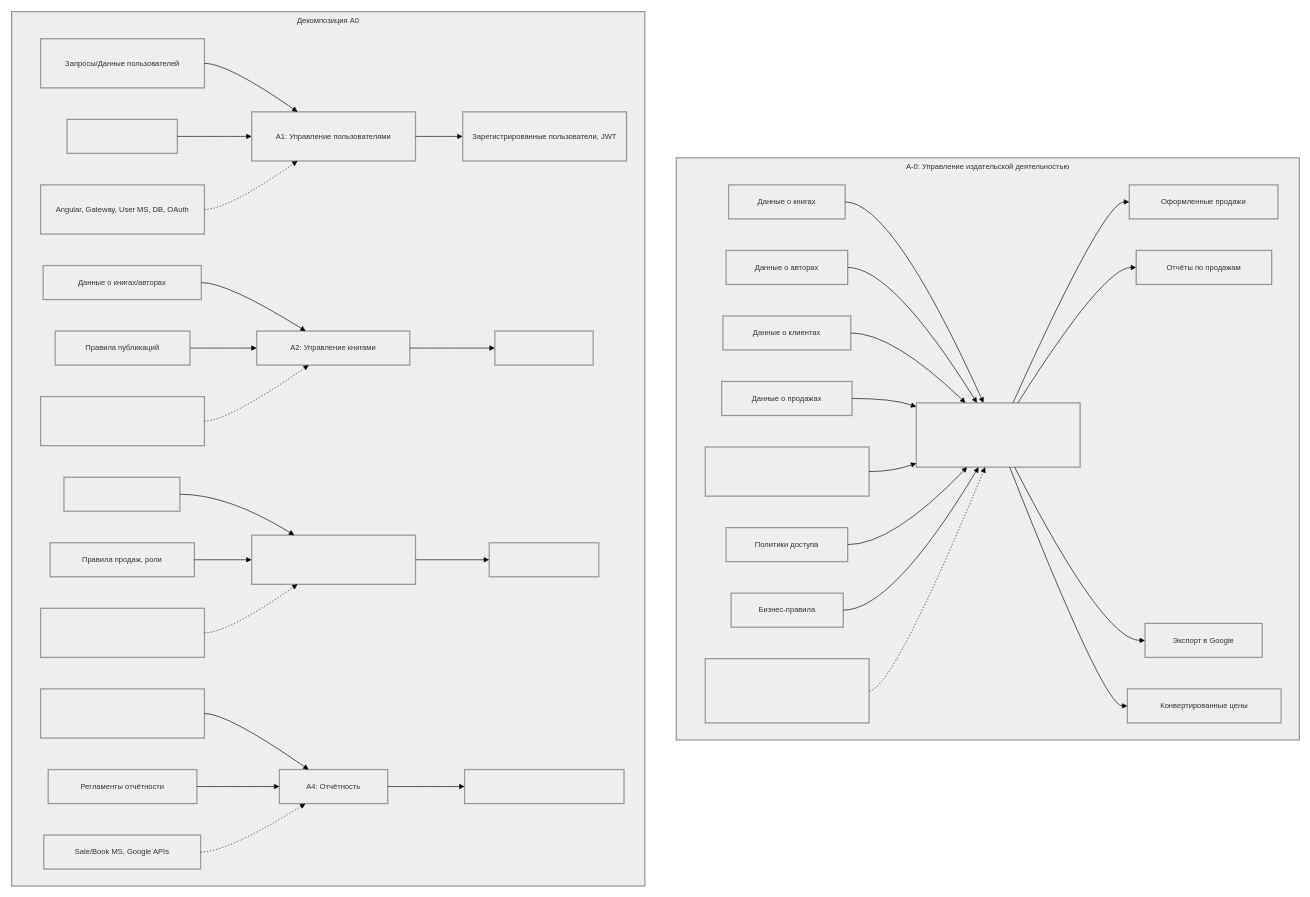
The diagram is 1310 pixels wide and 897 high, and some of its shapes have lost their labels. The centre of each missing label's shape, as x and y in pixels:
A0: Управление издательской деятельностью: pixel 997 434
A3: Управление продажами: pixel 333 559
Angular, API Gateway, Microservices, PostgreSQL, External Services: pixel 786 690
Angular, Gateway, Book MS, DB: pixel 122 421
Angular, Gateway, Sale/Book MS, DB, NBRB: pixel 122 632
Данные о книгах и продажах: pixel 122 713
Заказы/продажи: pixel 121 494
Каталог книг: pixel 543 347
Отчёты в Google, события: pixel 544 786
Продажи, цены: pixel 543 559
Роли и правила: pixel 122 136
Роли: Admin, Employee, Client: pixel 786 471
